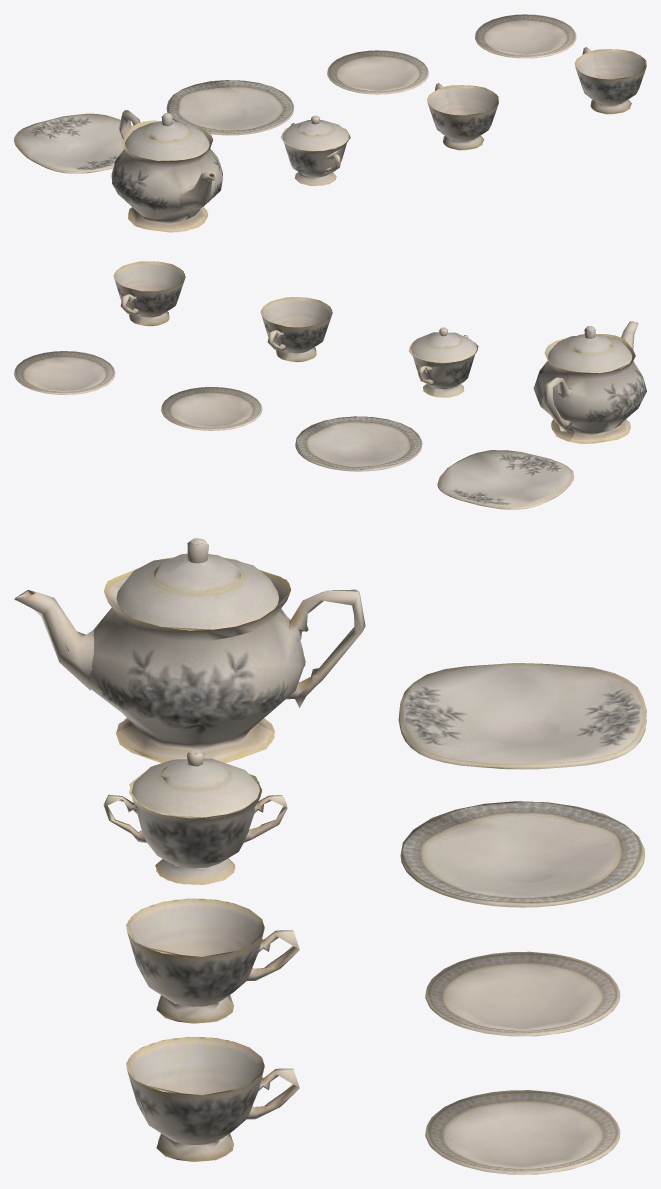
The model's file is tea_set_01.glb.
The picture shows the model from 3 angles, top to bottom: view 1: azimuth 30°, elevation 25°; view 2: azimuth 150°, elevation 25°; view 3: azimuth 270°, elevation 25°; orthographic projection. The views are drawn at different scales.
Visible parts, largest first — view 1: tea_set_01_teapot_01, tea_set_01_plate_large_circular_03, tea_set_01_plate_large_square_01, tea_set_01_saucer_circular_03, tea_set_01_saucer_circular_04, tea_set_01_cup_small_02, tea_set_01_cup_small_01, tea_set_01_teapot_01_lid, tea_set_01_sugar_cup_01, tea_set_01_sugar_cup_01_lid; view 2: tea_set_01_teapot_01, tea_set_01_plate_large_square_01, tea_set_01_plate_large_circular_03, tea_set_01_cup_small_02, tea_set_01_cup_small_01, tea_set_01_saucer_circular_04, tea_set_01_saucer_circular_03, tea_set_01_teapot_01_lid, tea_set_01_sugar_cup_01, tea_set_01_sugar_cup_01_lid; view 3: tea_set_01_teapot_01, tea_set_01_plate_large_square_01, tea_set_01_plate_large_circular_03, tea_set_01_cup_small_01, tea_set_01_cup_small_02, tea_set_01_saucer_circular_04, tea_set_01_saucer_circular_03, tea_set_01_teapot_01_lid, tea_set_01_sugar_cup_01, tea_set_01_sugar_cup_01_lid.
Boxes of the visible parts, x1,y1,x2,y2 form: tea_set_01_teapot_01: [111, 110, 222, 232]; tea_set_01_plate_large_circular_03: [166, 80, 293, 135]; tea_set_01_plate_large_square_01: [14, 113, 132, 173]; tea_set_01_saucer_circular_03: [475, 14, 576, 58]; tea_set_01_saucer_circular_04: [327, 50, 428, 94]; tea_set_01_cup_small_02: [574, 47, 646, 114]; tea_set_01_cup_small_01: [427, 83, 499, 150]; tea_set_01_teapot_01_lid: [125, 113, 209, 160]; tea_set_01_sugar_cup_01: [280, 123, 350, 185]; tea_set_01_sugar_cup_01_lid: [282, 115, 348, 150]; tea_set_01_teapot_01: [533, 321, 646, 443]; tea_set_01_plate_large_square_01: [437, 450, 573, 509]; tea_set_01_plate_large_circular_03: [295, 416, 422, 471]; tea_set_01_cup_small_02: [113, 261, 185, 326]; tea_set_01_cup_small_01: [260, 297, 332, 362]; tea_set_01_saucer_circular_04: [161, 387, 262, 430]; tea_set_01_saucer_circular_03: [14, 351, 115, 394]; tea_set_01_teapot_01_lid: [548, 326, 632, 373]; tea_set_01_sugar_cup_01: [408, 335, 478, 397]; tea_set_01_sugar_cup_01_lid: [410, 327, 476, 362]; tea_set_01_teapot_01: [14, 557, 365, 763]; tea_set_01_plate_large_square_01: [398, 663, 646, 769]; tea_set_01_plate_large_circular_03: [400, 801, 644, 907]; tea_set_01_cup_small_01: [126, 898, 299, 1023]; tea_set_01_cup_small_02: [126, 1037, 299, 1161]; tea_set_01_saucer_circular_04: [425, 951, 620, 1036]; tea_set_01_saucer_circular_03: [425, 1090, 620, 1174]; tea_set_01_teapot_01_lid: [116, 538, 278, 629]; tea_set_01_sugar_cup_01: [103, 772, 287, 884]; tea_set_01_sugar_cup_01_lid: [131, 749, 259, 817].
Size of the model in its own units: 0.9183 by 0.1653 by 0.4836.
1 material, 1 textured.
